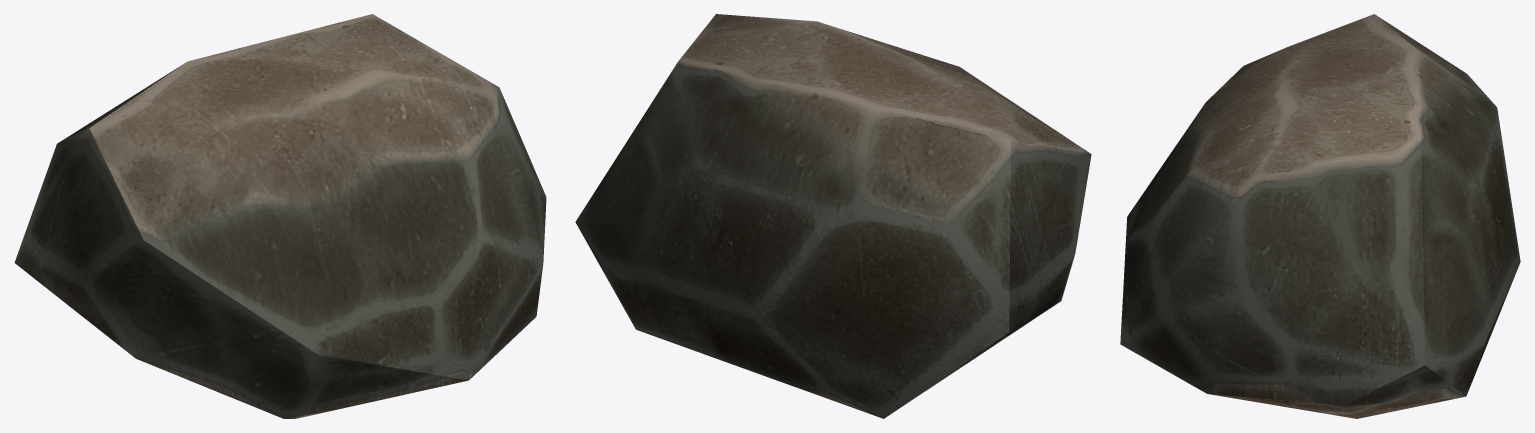
The model's file is pebble_4.fbx.
The picture shows the model from 3 angles, left to right: view 1: azimuth 30°, elevation 25°; view 2: azimuth 150°, elevation 25°; view 3: azimuth 270°, elevation 25°; orthographic projection. The views are drawn at different scales.
Parts seen in each view (by area): view 1: pebble_4; view 2: pebble_4; view 3: pebble_4.
Boxes of the visible parts, bbox=[...] form: pebble_4: bbox=[14, 14, 546, 418]; pebble_4: bbox=[575, 14, 1091, 418]; pebble_4: bbox=[1120, 14, 1520, 418].
Bounding box in the file's own units: 0.5592 × 0.3868 × 0.4472.
